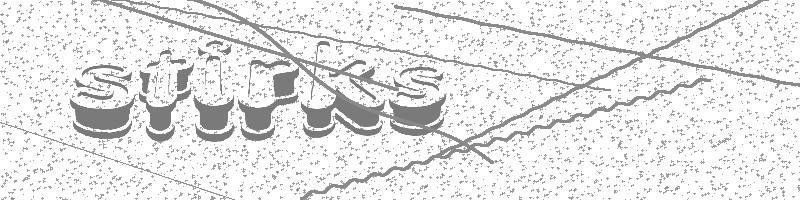i: (191, 38, 237, 144)
k: (303, 38, 383, 141)
r: (241, 56, 302, 146)
s: (67, 60, 139, 139), (389, 63, 448, 136)
t: (138, 47, 193, 142)
